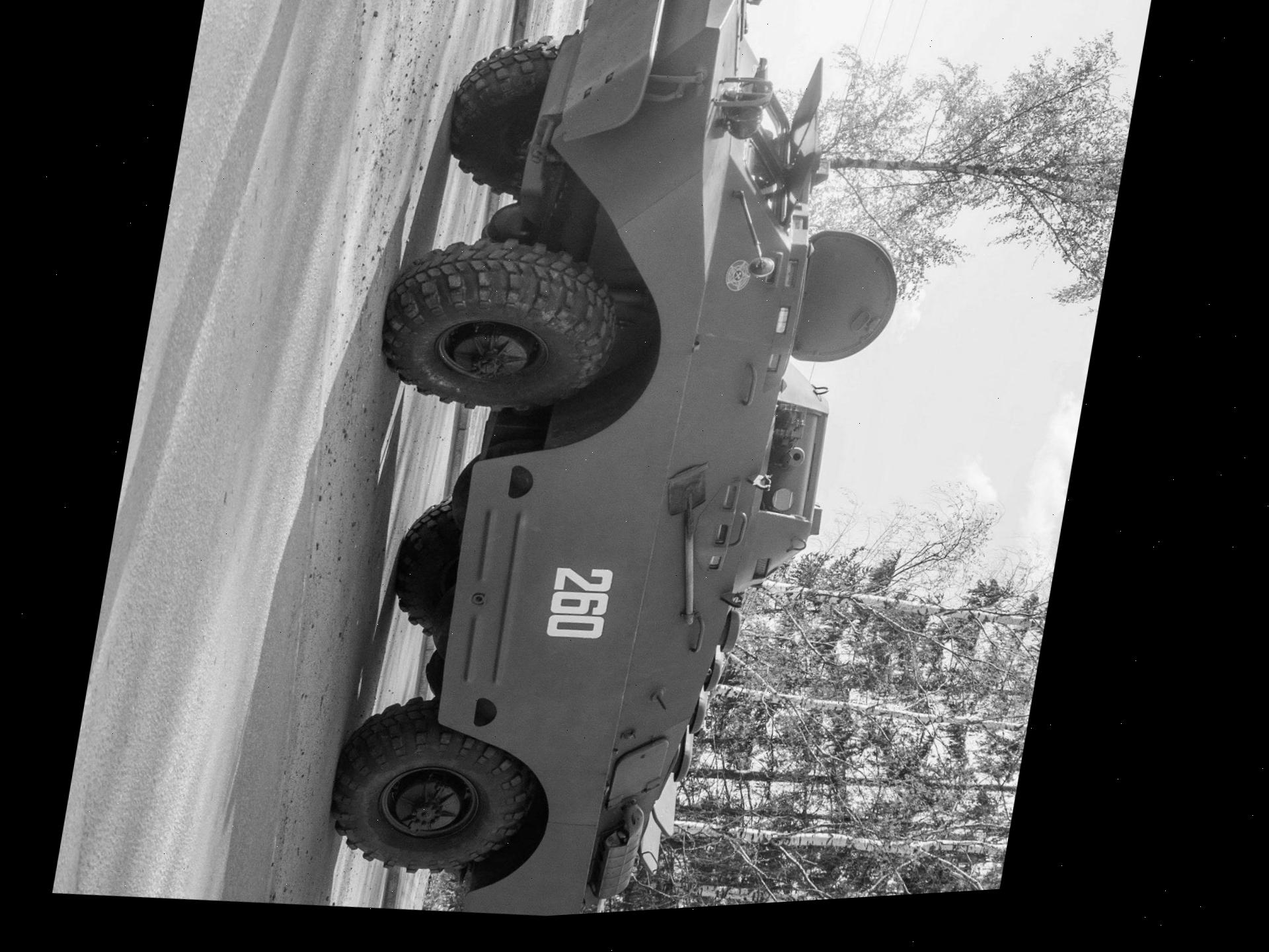tank: (274, 0, 968, 932)
